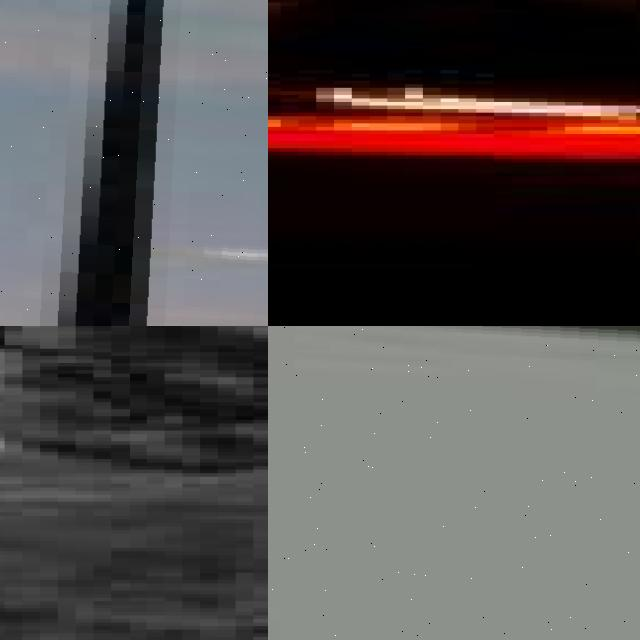street light: (268, 326, 640, 640), (0, 0, 268, 326), (351, 0, 405, 55), (565, 0, 636, 36)
